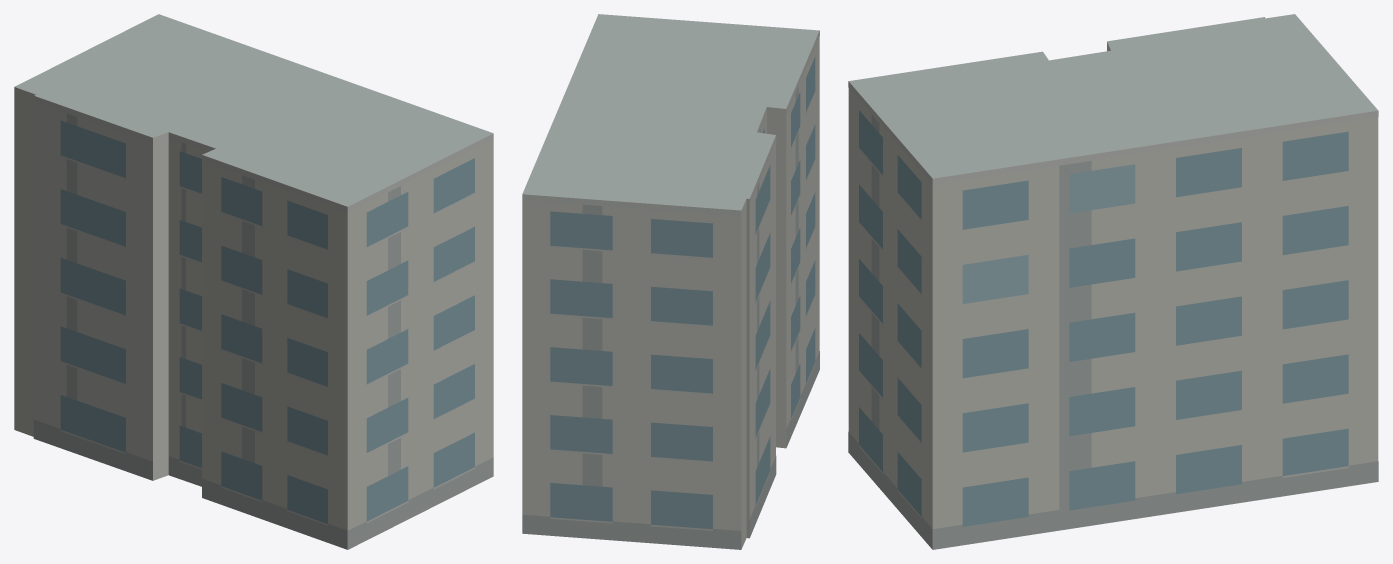
Rendered from survey-upis-32987015.glb.
3 views of the same model, side by side, from view 1: azimuth 30°, elevation 25°; view 2: azimuth 150°, elevation 25°; view 3: azimuth 270°, elevation 25° (orthographic). The views are drawn at different scales.
Parts seen in each view (by area): view 1: survey-upis-32987015.tmp; view 2: survey-upis-32987015.tmp; view 3: survey-upis-32987015.tmp.
Boxes of the visible parts, x1,y1,x2,y2 form: survey-upis-32987015.tmp: [14, 14, 493, 549]; survey-upis-32987015.tmp: [522, 14, 819, 549]; survey-upis-32987015.tmp: [848, 14, 1378, 549].
Bounding box in the file's own units: 13.52 × 14.2 × 18.38.
